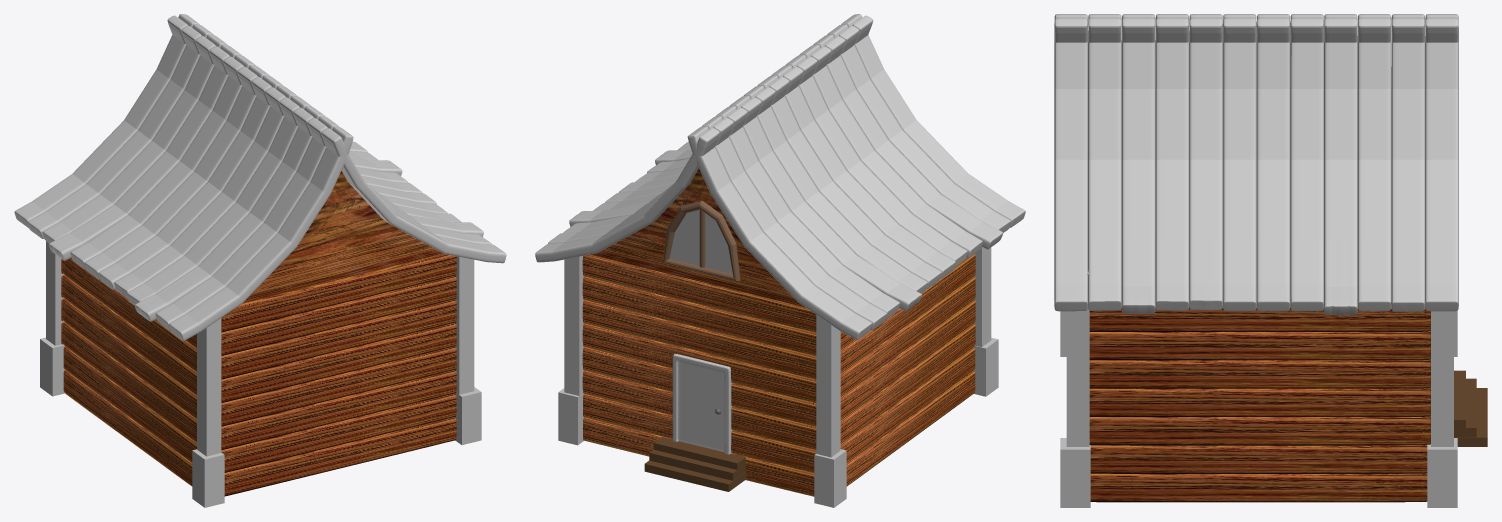
Rendered from NEWcabinfinal.fbx.
3 renders of one model, left to right at view 1: azimuth 30°, elevation 25°; view 2: azimuth 150°, elevation 25°; view 3: azimuth 270°, elevation 25°, orthographic. The views are drawn at different scales.
Parts seen in each view (by area): view 1: Cube.006, Cube.010, Cube.005, Cube.007, Plane.004, Cube.017, Cube.016, Cube.014, Cube.009, Cube.015, Cube.011; view 2: Cube.006, Cube.003, Cube.005, Cube.007, Plane, Plane.001, Circle.003, Cube.012, Cube.009, Cube.008, Cube.011, Cube.017 (+2 smaller); view 3: Cube.007, Cube.004, Cube.006, Cube.016, Cube.008, Cube.012, Cube.015, Cube.013.
Boxes of the visible parts, x1,y1,x2,y2 form: Cube.006: (14,14,353,340); Cube.010: (221,254,456,496); Cube.005: (62,258,221,486); Cube.007: (167,15,506,263); Plane.004: (243,171,443,302); Cube.017: (197,318,221,456); Cube.016: (455,240,474,394); Cube.014: (192,449,224,507); Cube.009: (46,241,63,345); Cube.015: (455,387,481,444); Cube.011: (40,337,65,396); Cube.006: (687,14,1025,340); Cube.003: (582,254,816,496); Cube.005: (840,254,975,486); Cube.007: (535,15,873,262); Plane: (590,169,804,307); Plane.001: (672,353,732,454); Circle.003: (663,201,740,281); Cube.012: (644,437,746,491); Cube.009: (816,315,840,457); Cube.008: (564,256,583,395); Cube.011: (814,449,846,507); Cube.017: (974,247,991,347); Cube.007: (1054,14,1458,315); Cube.004: (1089,302,1430,502); Cube.006: (1054,18,1458,83); Cube.016: (1066,270,1089,446); Cube.008: (1431,311,1453,446); Cube.012: (1454,370,1487,446); Cube.015: (1060,438,1090,507); Cube.013: (1427,438,1457,507).
Bounding box in the file's own units: 2369 × 2252 × 2162.
